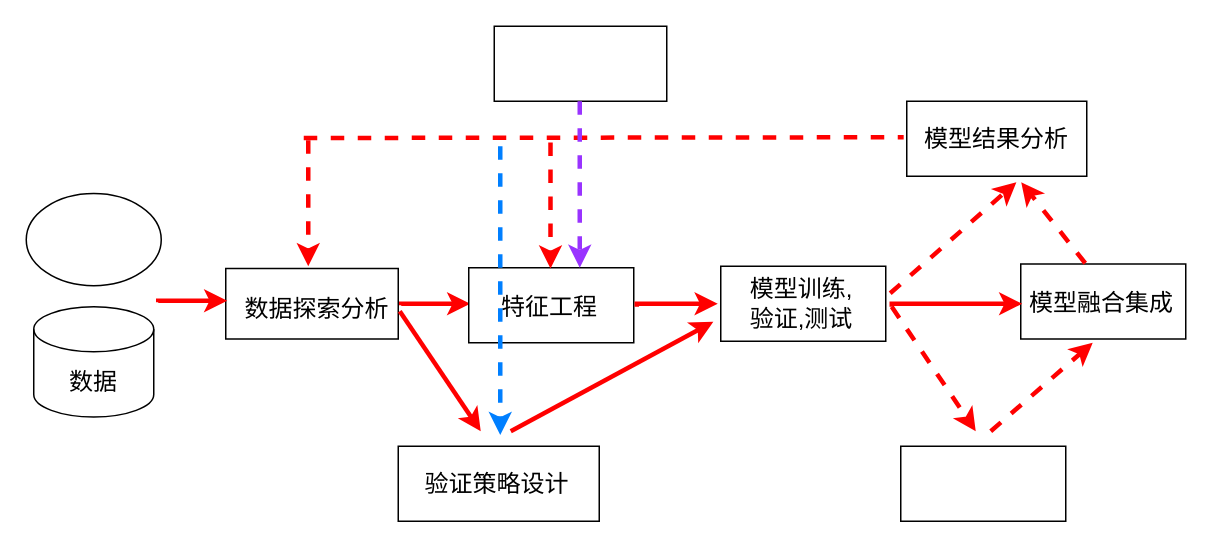
Some shapes in this 1212 by 548 pixel diagram are drawn without their labels. The centre of each missing label's shape, as x and y in pixels:
"模型后处理" goes at pixel 982 483.
"选用模型" goes at pixel 580 63.
"问题描述,背景" goes at pixel 93 239.
